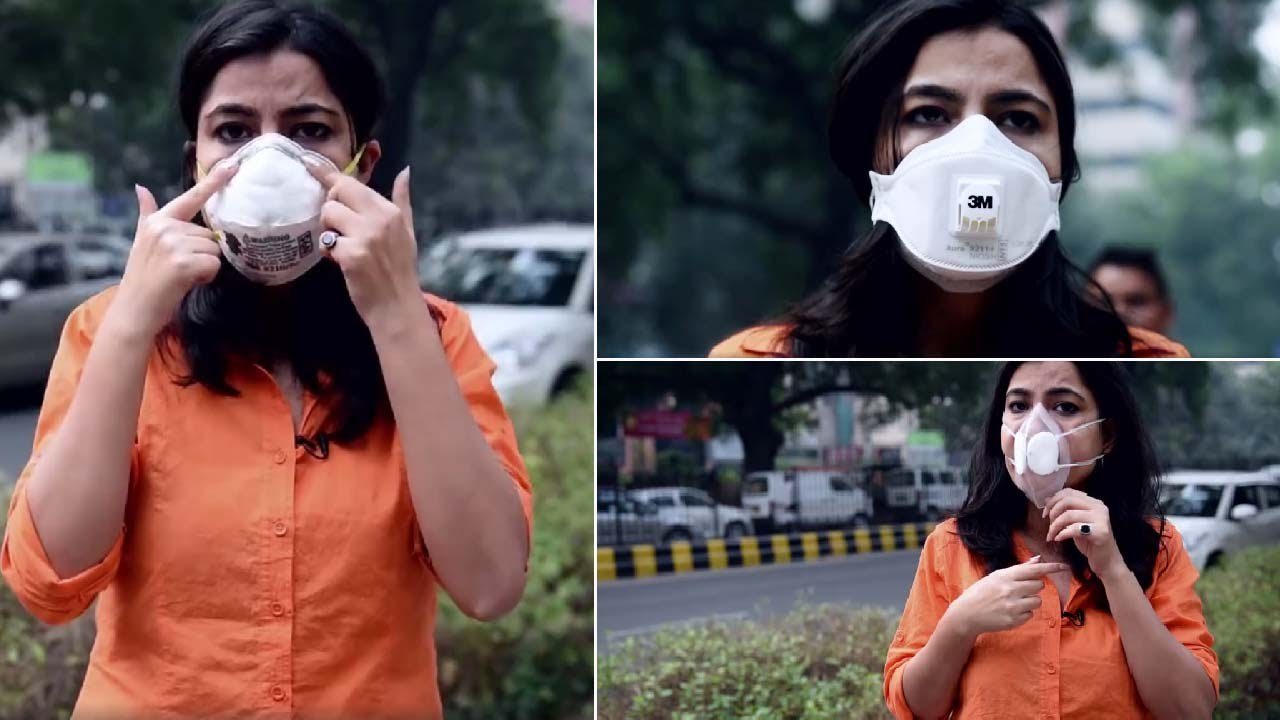mask: (843, 11, 1080, 287), (167, 18, 363, 305), (984, 371, 1114, 535)
